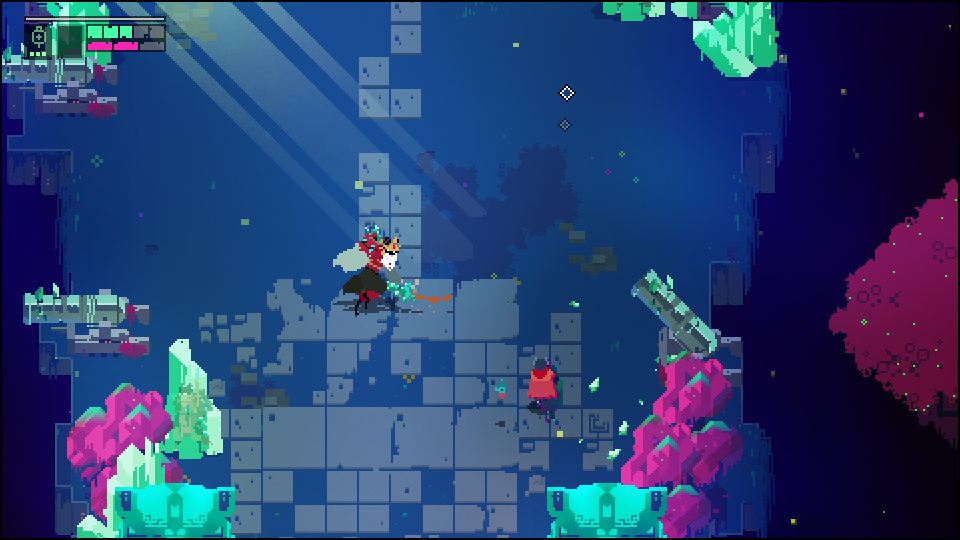hanged_man: (334, 228, 422, 307)
player: (525, 355, 557, 409)
